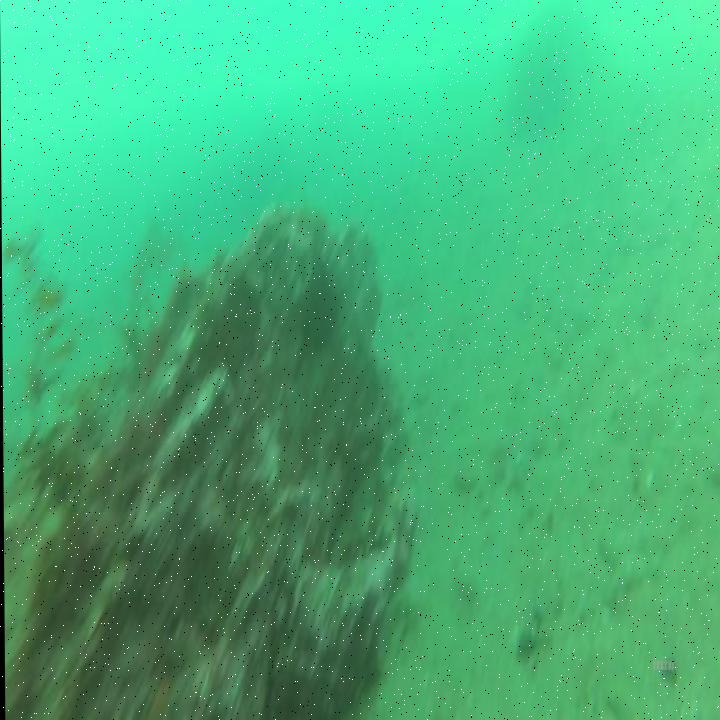echinus: (299, 260, 343, 354), (221, 272, 262, 370)
